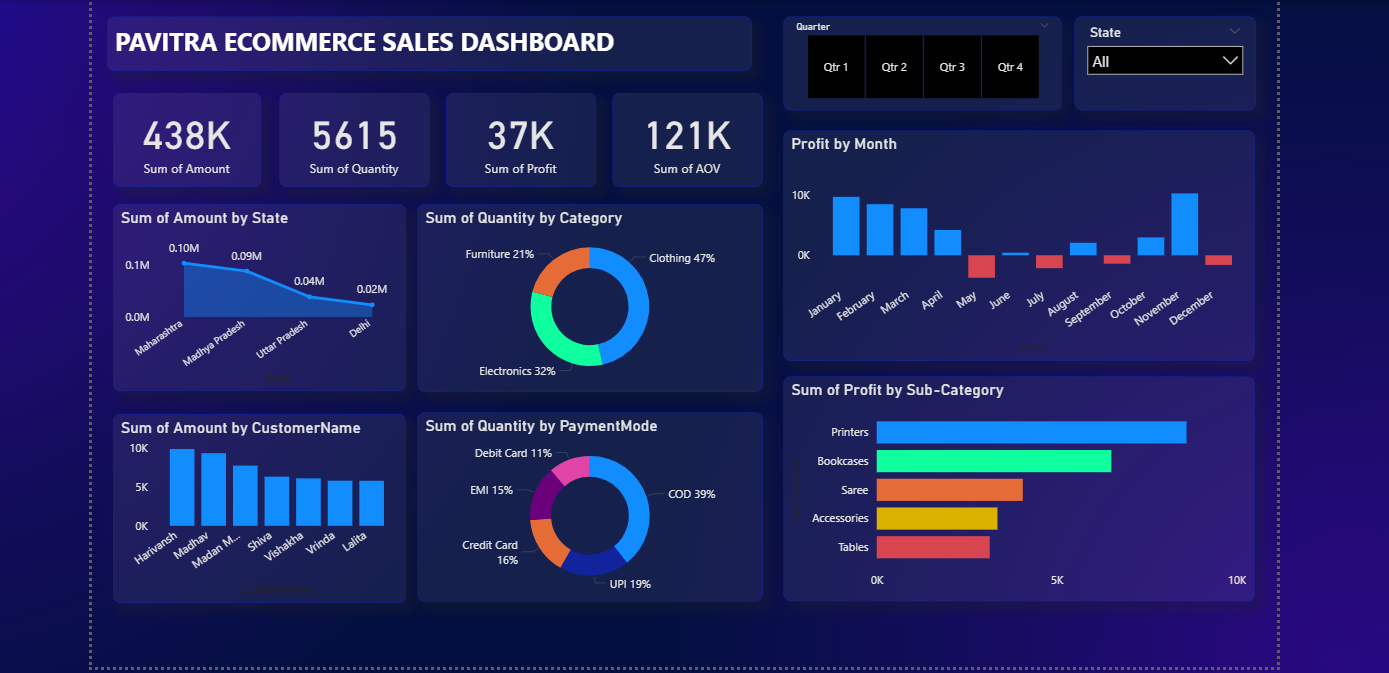

The dashboard page shown, as its layout file describes it:
{"tool":"powerbi","page":{"name":"Page 1","canvas":[1280,720],"ordinal":0},"visuals":[{"type":"textbox","box":[15.7,18.6,695.7,58.6],"z":0},{"type":"columnChart","title":"Profit by Month","fields":{"Category":["Orders.Order Date.Variation.Date Hierarchy.Month"],"Y":["Details.Profit"]},"box":[747.1,141.4,508.6,248.6],"z":1000},{"type":"barChart","title":"Sum of Profit by Sub-Category","fields":{"Category":["Details.Sub-Category"],"Y":["Details.Profit"]},"box":[747.1,407.1,508.6,242.9],"z":2000},{"type":"donutChart","title":"Sum of Quantity by Category","fields":{"Category":["Details.Category"],"Y":["Details.Quantity"]},"box":[351.4,220,372.9,202.9],"z":3000},{"type":"donutChart","title":"Sum of Quantity by PaymentMode","fields":{"Y":["Details.Quantity"],"Category":["Details.PaymentMode"]},"box":[351.4,445.7,372.9,204.3],"z":4000},{"type":"card","fields":{"Values":["Details.Amount"]},"box":[22.1,101.1,159.9,101.1],"z":5000},{"type":"card","fields":{"Values":["Details.Quantity"]},"box":[202.2,101.1,161.8,101.1],"z":6000},{"type":"card","fields":{"Values":["Details.Profit"]},"box":[382.3,101.1,161.8,101.1],"z":7000},{"type":"card","fields":{"Values":["Details.AOV"]},"box":[562.5,101.1,161.8,101.1],"z":8000},{"type":"areaChart","title":"Sum of Amount by State","fields":{"Category":["Orders.State"],"Y":["Details.Amount"]},"box":[22.1,220.6,316.2,202.2],"z":9000},{"type":"columnChart","title":"Sum of Amount by CustomerName","fields":{"Category":["Orders.CustomerName"],"Y":["Details.Amount"]},"box":[22.1,446.7,316.2,204],"z":10000},{"type":"slicer","fields":{"Values":["Orders.Order Date.Variation.Date Hierarchy.Quarter"]},"box":[747,18.6,300,101.4],"z":11000},{"type":"slicer","fields":{"Values":["Orders.State"]},"box":[1060,18.6,195.7,101.4],"z":12000}]}

Visuals, with their boxes on the page's 1280x720 design canvas (x1, y1, x2, y2). These are canvas units, not pixel positions in the 1389x673 screenshot, which may show the page scaled, cropped or inside an application window:
textbox: <bbox>16, 19, 711, 77</bbox>
"Profit by Month" columnChart: <bbox>747, 141, 1256, 390</bbox>
"Sum of Profit by Sub-Category" barChart: <bbox>747, 407, 1256, 650</bbox>
"Sum of Quantity by Category" donutChart: <bbox>351, 220, 724, 423</bbox>
"Sum of Quantity by PaymentMode" donutChart: <bbox>351, 446, 724, 650</bbox>
card - Details.Amount: <bbox>22, 101, 182, 202</bbox>
card - Details.Quantity: <bbox>202, 101, 364, 202</bbox>
card - Details.Profit: <bbox>382, 101, 544, 202</bbox>
card - Details.AOV: <bbox>562, 101, 724, 202</bbox>
"Sum of Amount by State" areaChart: <bbox>22, 221, 338, 423</bbox>
"Sum of Amount by CustomerName" columnChart: <bbox>22, 447, 338, 651</bbox>
slicer - Orders.Order Date.Variation.Date Hierarchy.Quarter: <bbox>747, 19, 1047, 120</bbox>
slicer - Orders.State: <bbox>1060, 19, 1256, 120</bbox>
